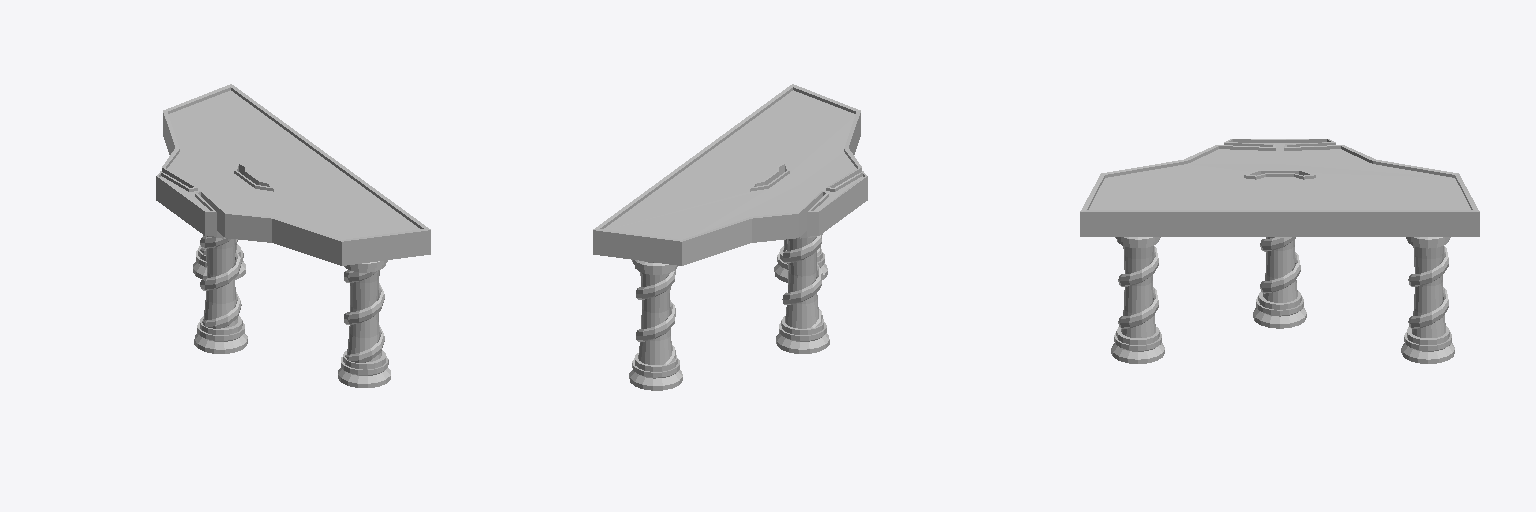
Rendered from MakutaTable.obj.
The picture shows the model from 3 angles: view 1: azimuth 30°, elevation 25°; view 2: azimuth 150°, elevation 25°; view 3: azimuth 270°, elevation 25°; orthographic projection.
Parts seen in each view (by area): view 1: Table, PillarBody Pillar3, PillarBody Pillar1, Pillar1 PillarBaseB, Pillar3 PillarBaseB; view 2: Table, PillarBody Pillar2, PillarBody Pillar1, Pillar2 PillarBaseB, Pillar1 PillarBaseB; view 3: Table, PillarBody Pillar3, PillarBody Pillar2, PillarBody Pillar1, Pillar2 PillarBaseB, Pillar3 PillarBaseB, Pillar1 PillarBaseB.
Boxes of the visible parts, x1=… form: Table: x1=156, y1=84, x2=430, y2=265; PillarBody Pillar3: x1=344, y1=270, x2=384, y2=362; PillarBody Pillar1: x1=200, y1=236, x2=241, y2=328; Pillar1 PillarBaseB: x1=194, y1=316, x2=247, y2=353; Pillar3 PillarBaseB: x1=338, y1=350, x2=390, y2=387; Table: x1=593, y1=84, x2=867, y2=265; PillarBody Pillar2: x1=636, y1=270, x2=675, y2=364; PillarBody Pillar1: x1=782, y1=233, x2=822, y2=328; Pillar2 PillarBaseB: x1=629, y1=353, x2=682, y2=390; Pillar1 PillarBaseB: x1=776, y1=316, x2=829, y2=353; Table: x1=1080, y1=139, x2=1479, y2=236; PillarBody Pillar3: x1=1118, y1=246, x2=1158, y2=337; PillarBody Pillar2: x1=1408, y1=246, x2=1448, y2=337; PillarBody Pillar1: x1=1260, y1=237, x2=1300, y2=302; Pillar2 PillarBaseB: x1=1401, y1=326, x2=1454, y2=363; Pillar3 PillarBaseB: x1=1111, y1=327, x2=1164, y2=363; Pillar1 PillarBaseB: x1=1253, y1=291, x2=1306, y2=328.
Bounding box in the file's own units: 2.7 × 2.76 × 6.2.